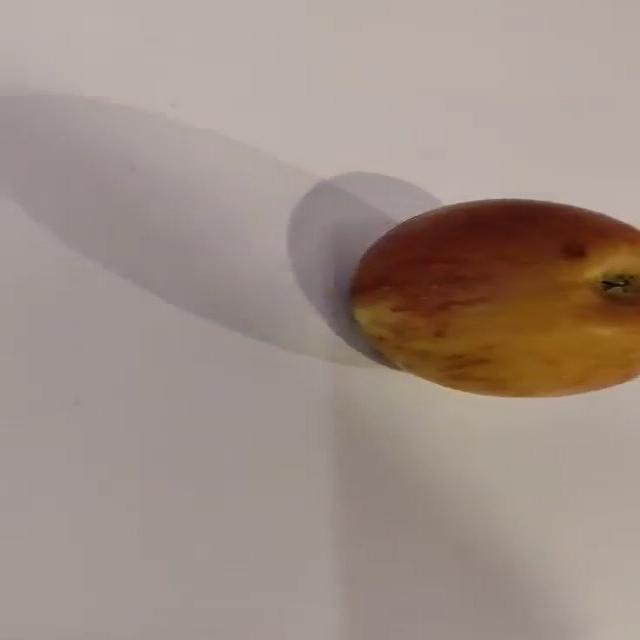Apple: (347, 196, 639, 398)
